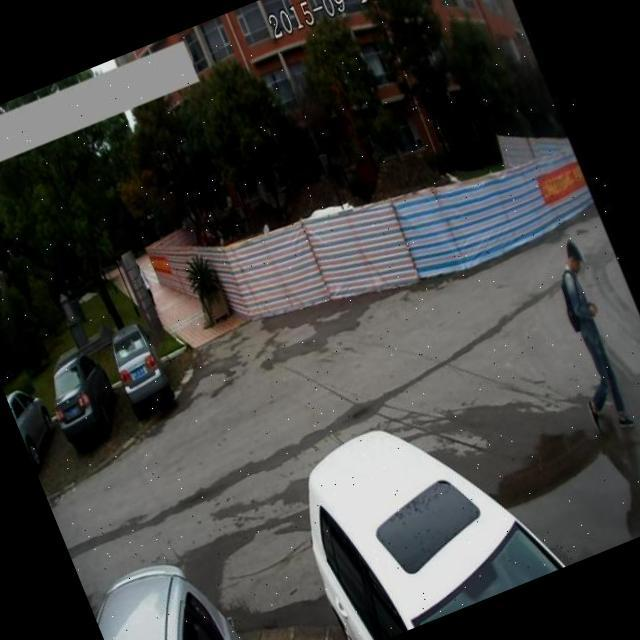person: (522, 230, 640, 446)
